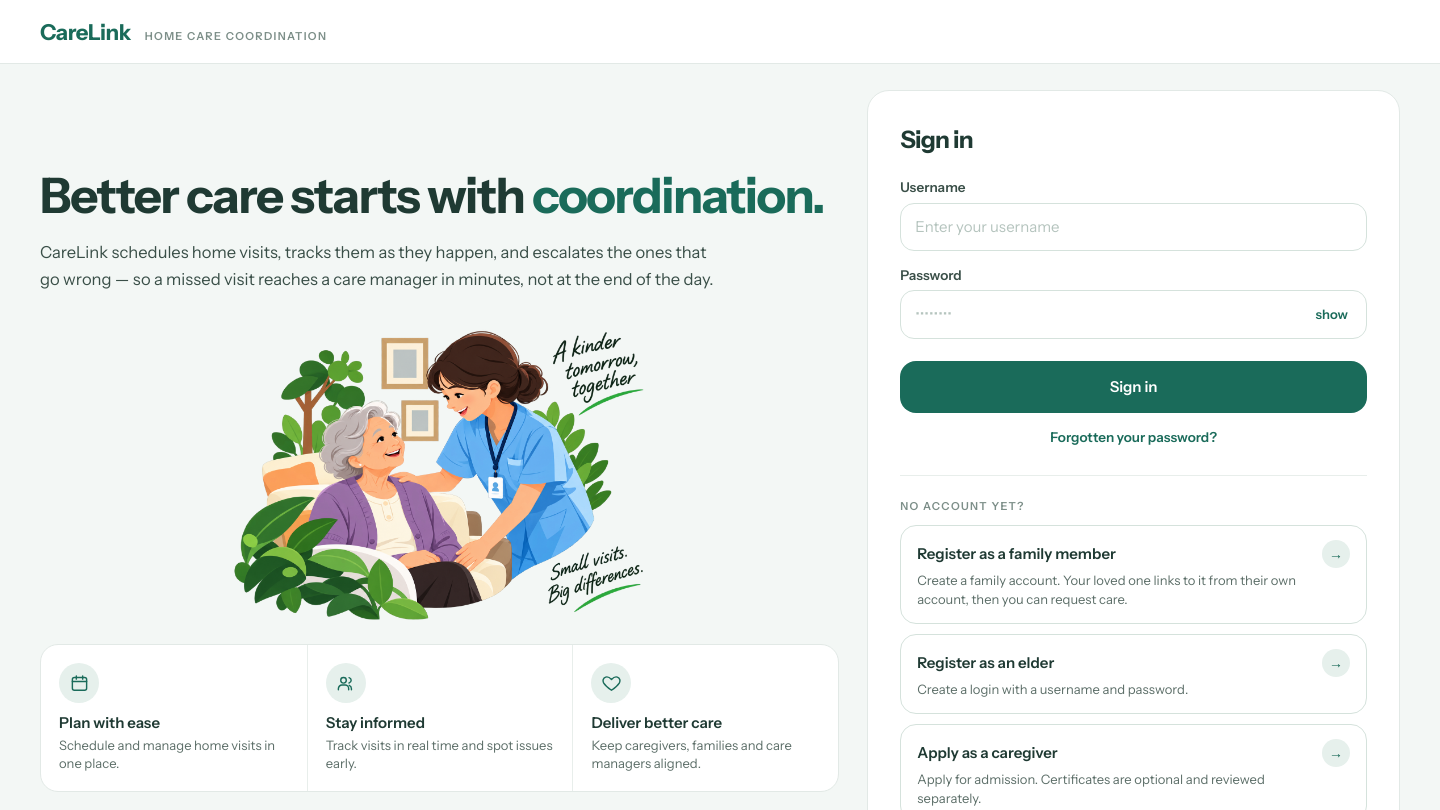
Test: Family sign-up › is reached from the landing page without a session
Click the link "Register as a family member" at (1134, 575), box x1=900 y1=525 x2=1367 y2=624
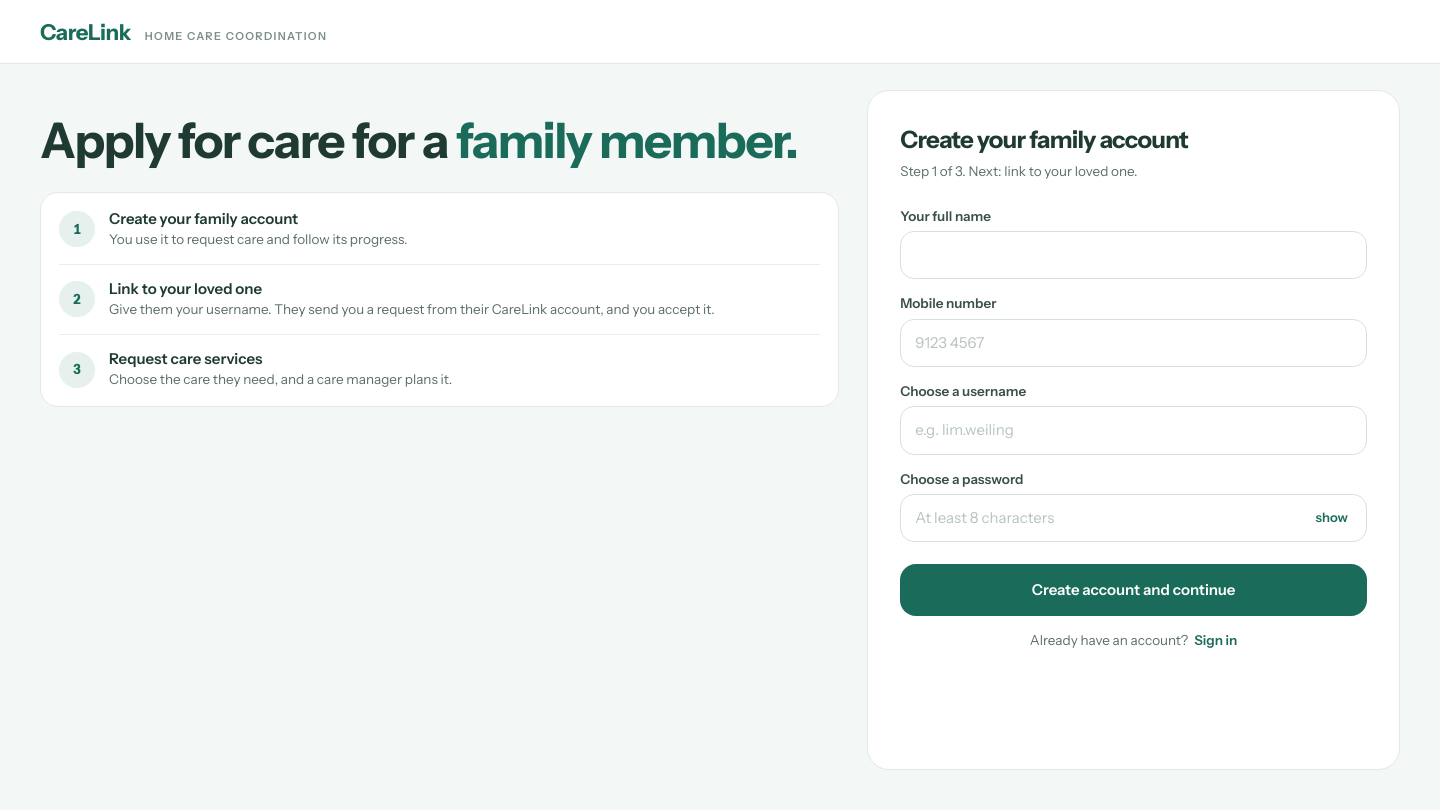
Check: the heading "Create your family account" is shown, box x1=900 y1=125 x2=1188 y2=154
